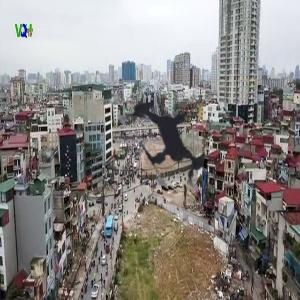drone: (92, 64, 250, 222)
